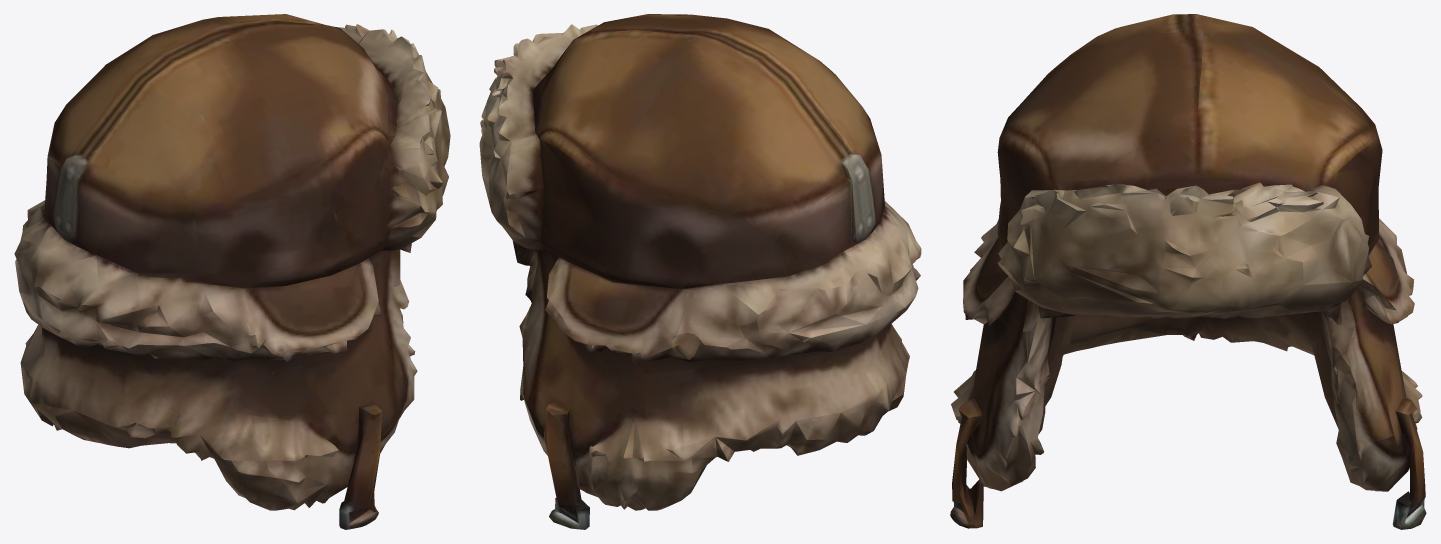
The model's file is woodcutter_cap.glb.
The picture shows the model from 3 angles, left to right: view 1: azimuth 30°, elevation 25°; view 2: azimuth 150°, elevation 25°; view 3: azimuth 270°, elevation 25°; orthographic projection. The views are drawn at different scales.
Parts seen in each view (by area): view 1: world; view 2: world; view 3: world.
Part boxes in pixels (box(x1,y1,x2,y2)): world: box(14, 14, 450, 529); world: box(479, 14, 921, 529); world: box(950, 14, 1426, 529).
Size of the model in its own units: 0.2798 by 0.2876 by 0.2632.
Materials: 1 (1 with a texture image).
